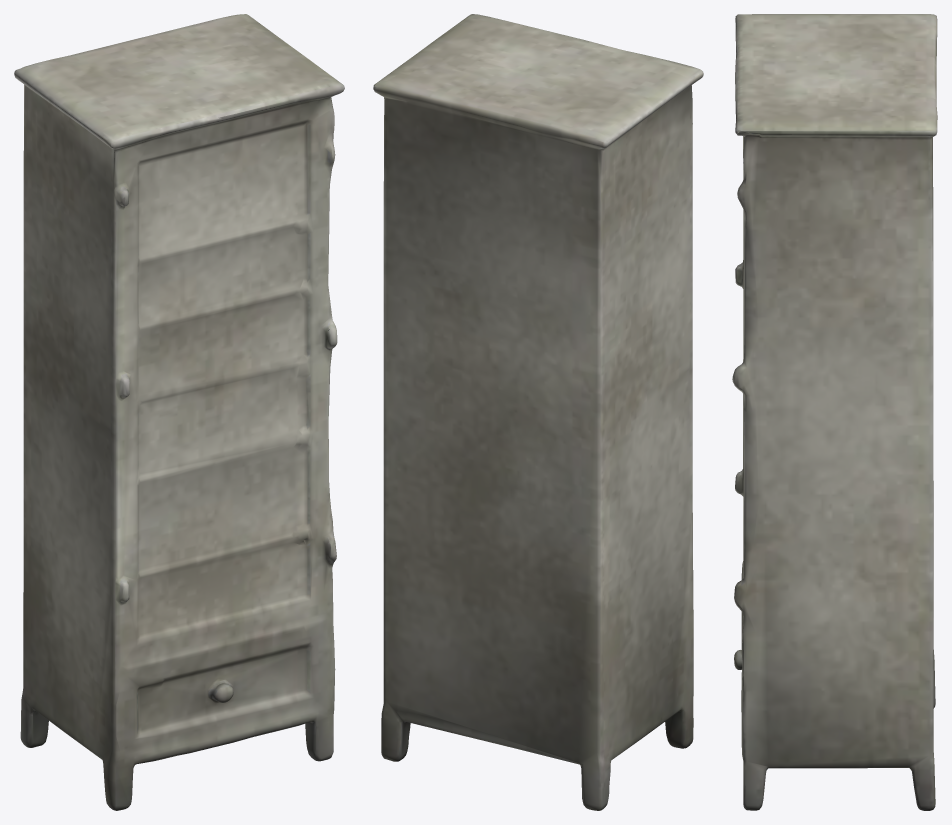
The model's file is simple-white-painted-medicine-cabinet-v002.glb.
3 views of the same model, side by side, from view 1: azimuth 30°, elevation 25°; view 2: azimuth 150°, elevation 25°; view 3: azimuth 270°, elevation 25° (orthographic).
Parts seen in each view (by area): view 1: simple-white-painted-medicine-cabinet; view 2: simple-white-painted-medicine-cabinet; view 3: simple-white-painted-medicine-cabinet.
Part boxes in pixels (x1=…): simple-white-painted-medicine-cabinet: x1=14, y1=14, x2=344, y2=810; simple-white-painted-medicine-cabinet: x1=373, y1=14, x2=703, y2=810; simple-white-painted-medicine-cabinet: x1=732, y1=14, x2=937, y2=810.
Bounding box in the file's own units: 0.6291 × 1.74 × 0.4681.
Materials: 1 (1 with a texture image).
